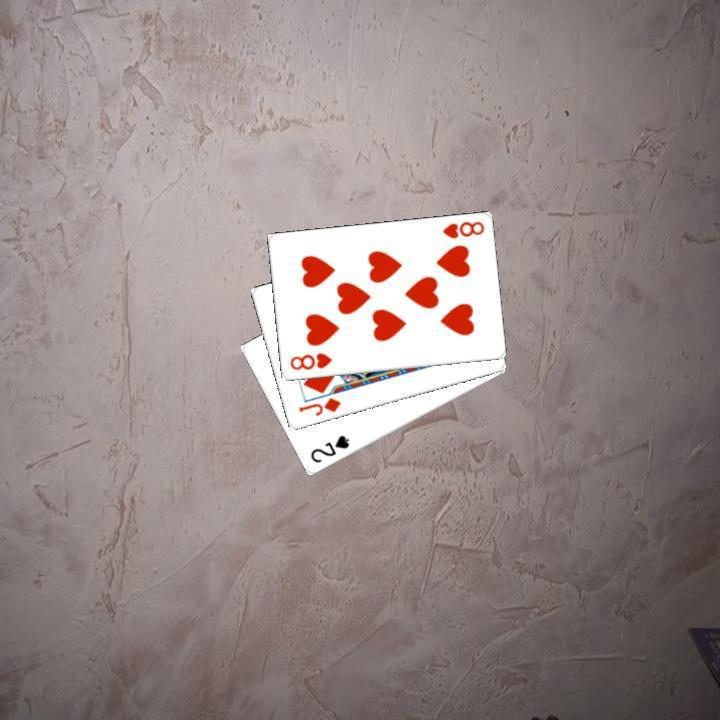2: (306, 431, 351, 465)
8: (438, 217, 486, 241), (285, 349, 334, 372)
J: (294, 393, 343, 418)
